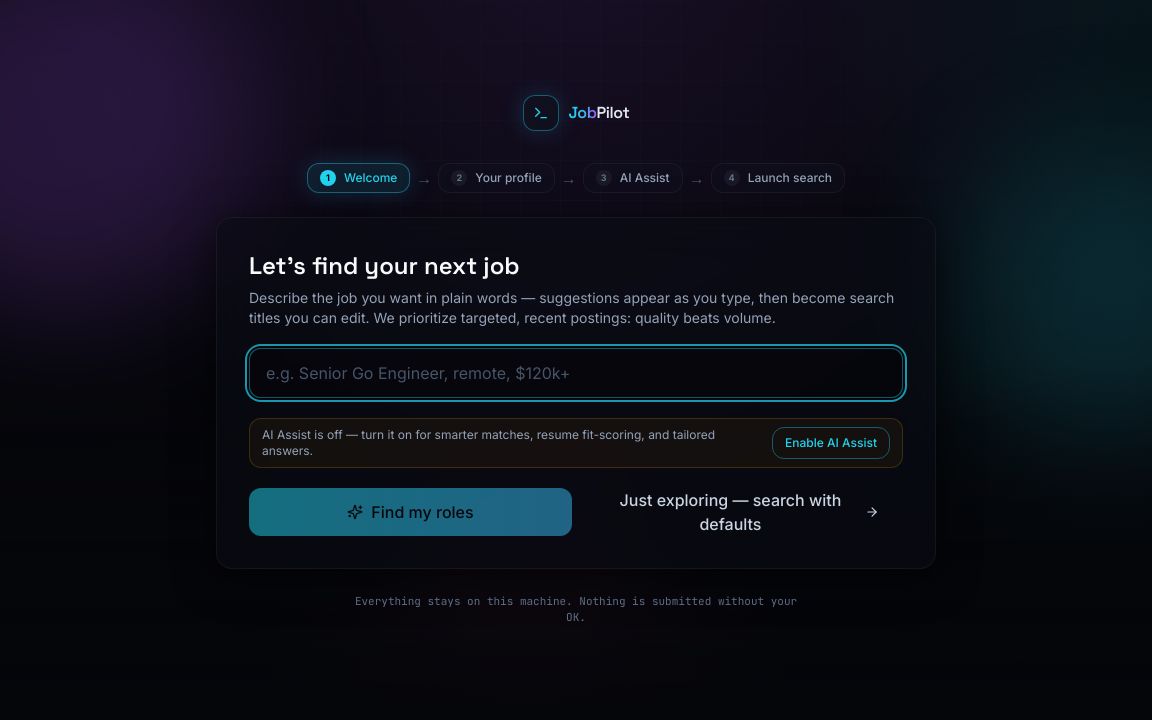
Test: OnboardingPage › surfaces an honest error when AI title suggestions are unavailable
This screenshot has width=1152, height=720.
Step 1. Type "Senior Go Engineer, remote" into the field named "what job do you want" → (576, 372), box [249,348,903,398]
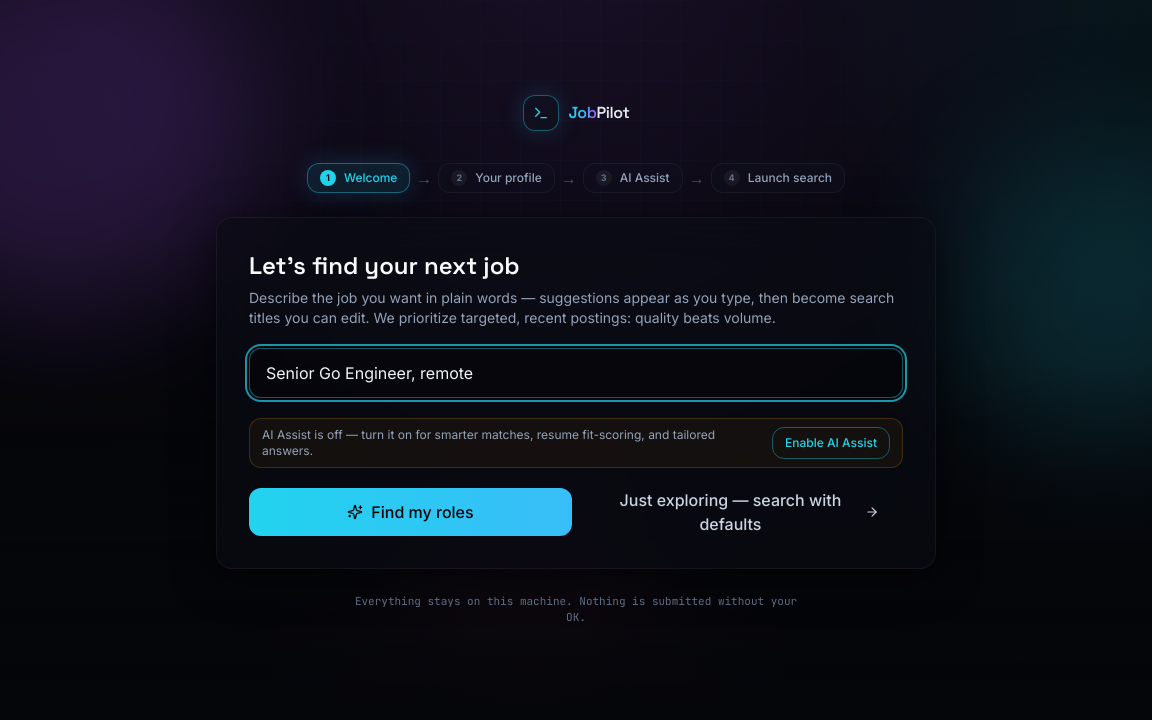
Step 2. Click the button "Find my roles" → (410, 512), box [249,488,572,536]
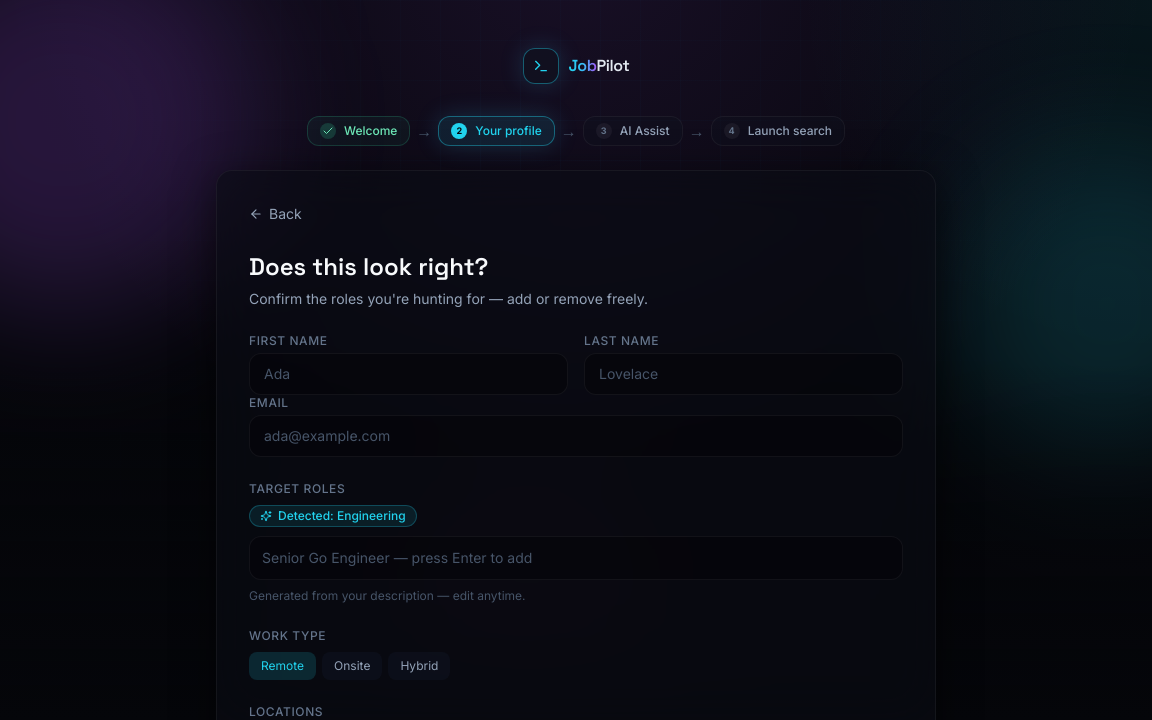
Expected: the heading "Does this look right?" is shown, [249,251,488,282]
